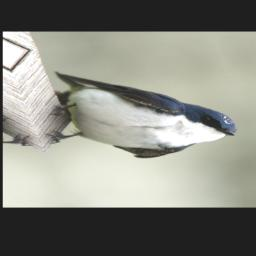Swallow: (19, 56, 246, 168)
